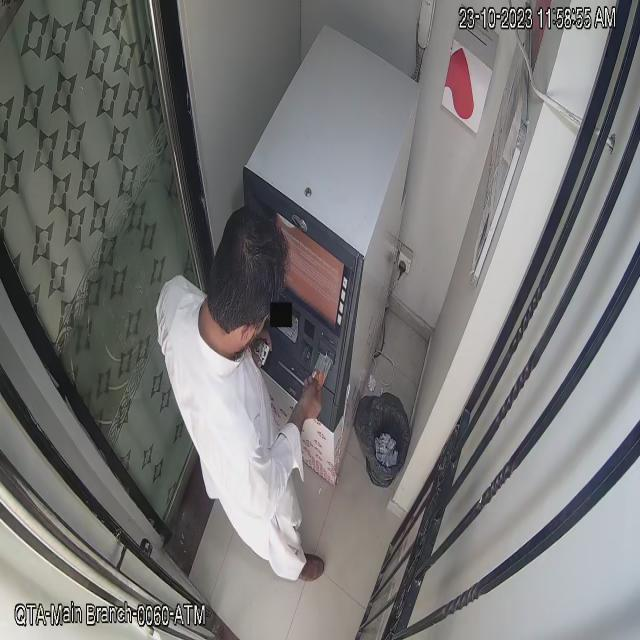atm-card: (310, 349, 336, 387)
